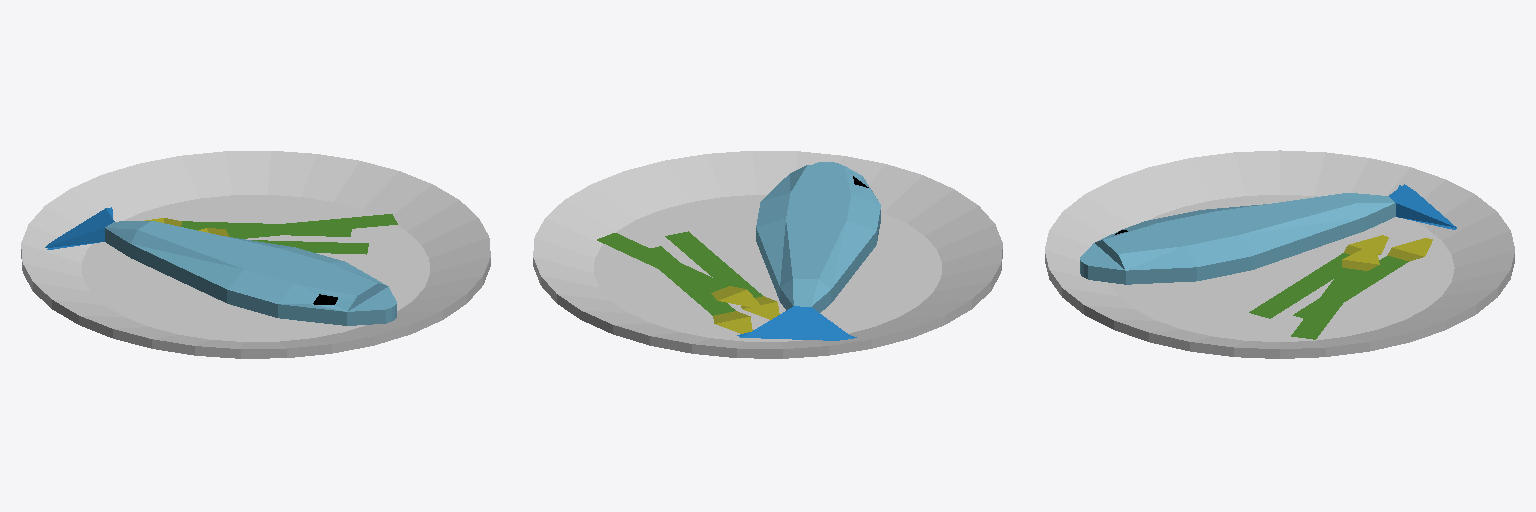
Rendered from fish.obj.
3 views of the same model, side by side, from view 1: azimuth 30°, elevation 25°; view 2: azimuth 150°, elevation 25°; view 3: azimuth 270°, elevation 25° (orthographic).
Visible parts, largest first — view 1: FishPlate_Cylinder.009; view 2: FishPlate_Cylinder.009; view 3: FishPlate_Cylinder.009.
Part boxes in pixels (left/top/right/bottom): FishPlate_Cylinder.009: left=21, top=151, right=490, bottom=358; FishPlate_Cylinder.009: left=533, top=151, right=1002, bottom=358; FishPlate_Cylinder.009: left=1045, top=150, right=1514, bottom=358.
Size of the model in its own units: 0.1617 by 0.0168 by 0.1617.